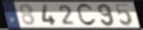2: (59, 4, 77, 26)
4: (41, 4, 58, 27)
5: (115, 3, 135, 27)
8: (19, 4, 37, 27)
9: (97, 3, 116, 27)
C: (75, 3, 98, 27)
